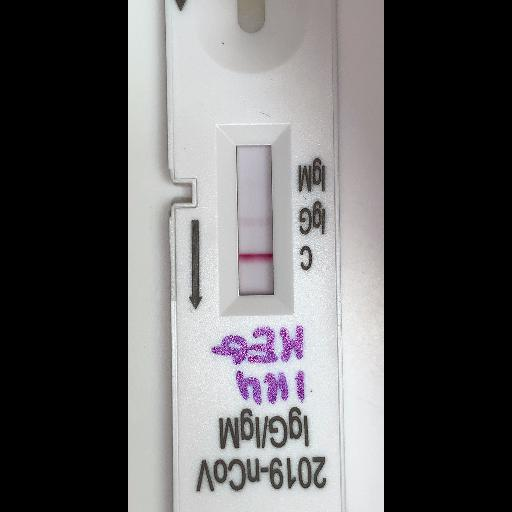Pos: (164, 0, 339, 511)
